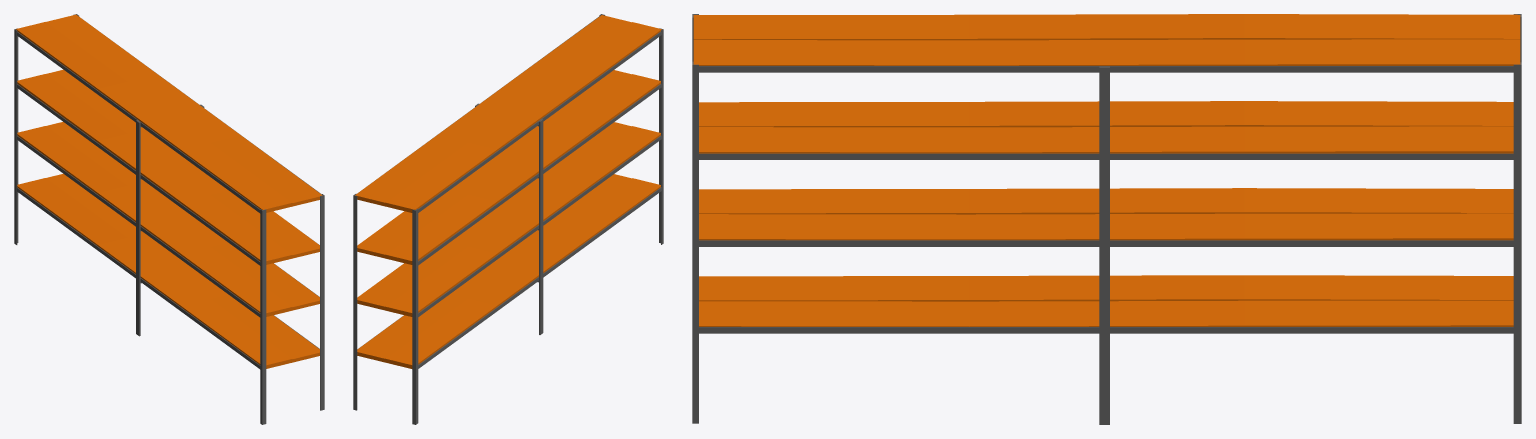
The model's file is Shelf.fbx.
3 views of the same model, side by side, from view 1: azimuth 30°, elevation 25°; view 2: azimuth 150°, elevation 25°; view 3: azimuth 270°, elevation 25° (orthographic). The views are drawn at different scales.
Visible parts, largest first — view 1: Cube.011; view 2: Cube.011; view 3: Cube.011.
Boxes of the visible parts, left/top/right/bottom form: Cube.011: left=14, top=14, right=324, bottom=424; Cube.011: left=353, top=14, right=663, bottom=424; Cube.011: left=692, top=14, right=1521, bottom=424.
Size of the model in its own units: 78.71 by 248 by 518.
